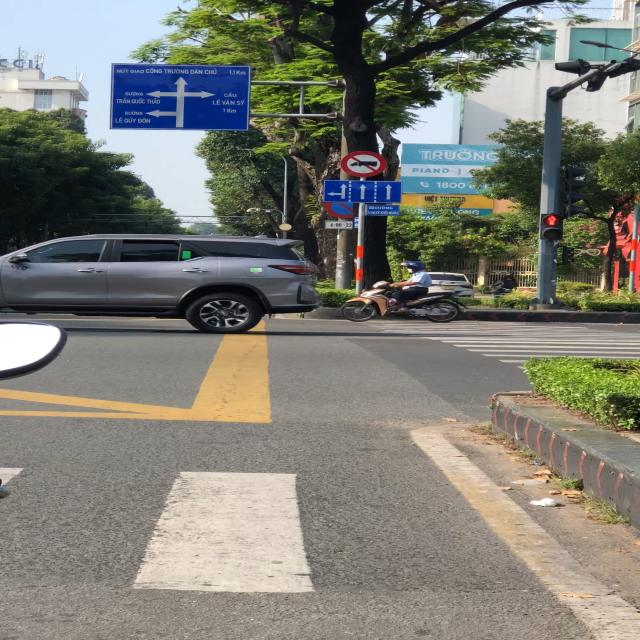Bien bao cam xe so-mi ro-mooc: (339, 148, 391, 180)
